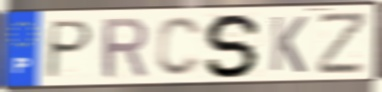C: (154, 15, 205, 79)
K: (268, 14, 310, 75)
P: (43, 19, 96, 81)
R: (100, 15, 151, 81)
S: (203, 11, 265, 80)
Z: (316, 10, 370, 77)
